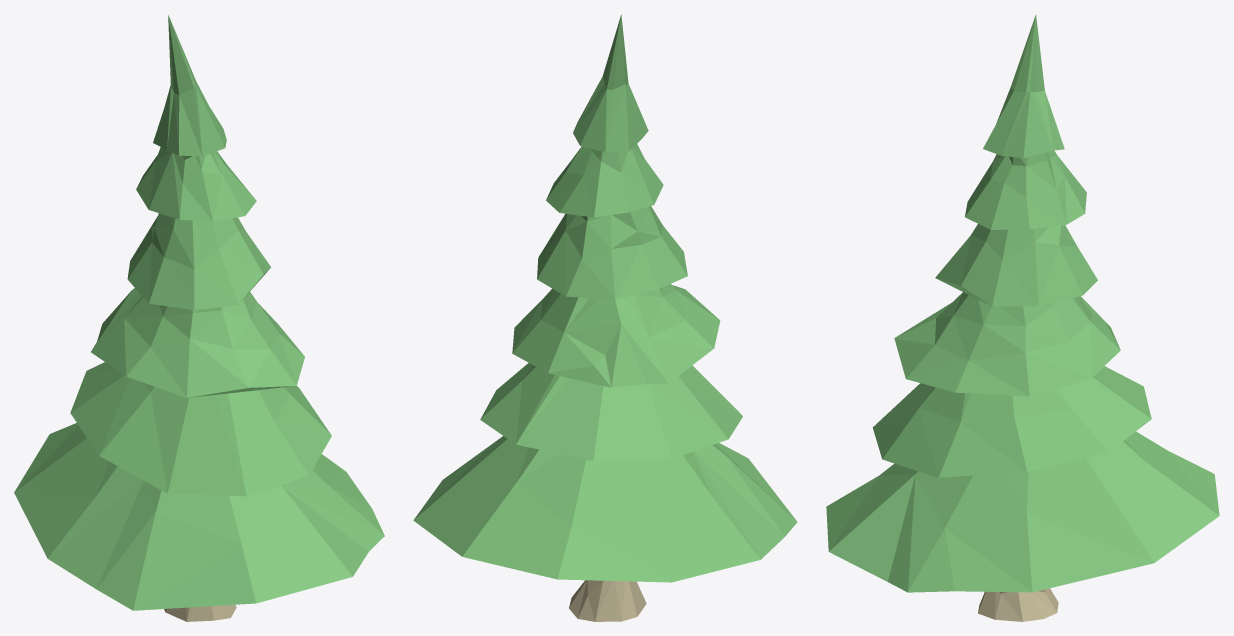
Rendered from BrokenTree.fbx.
3 renders of one model, left to right at view 1: azimuth 30°, elevation 25°; view 2: azimuth 150°, elevation 25°; view 3: azimuth 270°, elevation 25°, orthographic. The views are drawn at different scales.
Parts seen in each view (by area): view 1: LowPolyFirTree_01, LowPolyFirTree_01_cell.092, LowPolyFirTree_01_cell.009, LowPolyFirTree_01_cell.017, LowPolyFirTree_01_cell.004, LowPolyFirTree_01_cell.085, LowPolyFirTree_01_cell.075, LowPolyFirTree_01_cell.011, LowPolyFirTree_01_cell.130, LowPolyFirTree_01_cell.074, LowPolyFirTree_01_cell.059, LowPolyFirTree_01_cell.062 (+13 smaller); view 2: LowPolyFirTree_01, LowPolyFirTree_01_cell.100, LowPolyFirTree_01_cell.053, LowPolyFirTree_01_cell.064, LowPolyFirTree_01_cell.034, LowPolyFirTree_01_cell.065, LowPolyFirTree_01_cell.103, LowPolyFirTree_01_cell.074, LowPolyFirTree_01_cell.009; view 3: LowPolyFirTree_01, LowPolyFirTree_01_cell.017, LowPolyFirTree_01_cell.071, LowPolyFirTree_01_cell.011, LowPolyFirTree_01_cell.092, LowPolyFirTree_01_cell.039, LowPolyFirTree_01_cell.096, LowPolyFirTree_01_cell.026, LowPolyFirTree_01_cell.065, LowPolyFirTree_01_cell.088, LowPolyFirTree_01_cell.031, LowPolyFirTree_01_cell.110 (+4 smaller).
Part boxes in pixels (x1=…): LowPolyFirTree_01: x1=14, y1=38, x2=382, y2=621; LowPolyFirTree_01_cell.092: x1=153, y1=491, x2=291, y2=609; LowPolyFirTree_01_cell.009: x1=35, y1=474, x2=168, y2=599; LowPolyFirTree_01_cell.017: x1=203, y1=389, x2=314, y2=485; LowPolyFirTree_01_cell.004: x1=186, y1=353, x2=272, y2=397; LowPolyFirTree_01_cell.085: x1=165, y1=234, x2=230, y2=291; LowPolyFirTree_01_cell.075: x1=155, y1=298, x2=222, y2=368; LowPolyFirTree_01_cell.011: x1=222, y1=297, x2=273, y2=360; LowPolyFirTree_01_cell.130: x1=169, y1=465, x2=276, y2=496; LowPolyFirTree_01_cell.074: x1=132, y1=315, x2=195, y2=395; LowPolyFirTree_01_cell.059: x1=181, y1=153, x2=218, y2=196; LowPolyFirTree_01_cell.062: x1=166, y1=93, x2=215, y2=127; LowPolyFirTree_01: x1=413, y1=15, x2=797, y2=621; LowPolyFirTree_01_cell.100: x1=466, y1=457, x2=614, y2=569; LowPolyFirTree_01_cell.053: x1=420, y1=460, x2=502, y2=551; LowPolyFirTree_01_cell.064: x1=460, y1=548, x2=575, y2=571; LowPolyFirTree_01_cell.034: x1=613, y1=509, x2=715, y2=581; LowPolyFirTree_01_cell.065: x1=480, y1=366, x2=565, y2=437; LowPolyFirTree_01_cell.103: x1=536, y1=377, x2=607, y2=436; LowPolyFirTree_01_cell.074: x1=658, y1=296, x2=719, y2=333; LowPolyFirTree_01_cell.009: x1=685, y1=445, x2=790, y2=544; LowPolyFirTree_01: x1=827, y1=15, x2=1219, y2=621; LowPolyFirTree_01_cell.017: x1=877, y1=383, x2=949, y2=463; LowPolyFirTree_01_cell.071: x1=936, y1=337, x2=1028, y2=396; LowPolyFirTree_01_cell.011: x1=923, y1=294, x2=973, y2=350; LowPolyFirTree_01_cell.092: x1=826, y1=463, x2=911, y2=516; LowPolyFirTree_01_cell.039: x1=887, y1=541, x2=994, y2=592; LowPolyFirTree_01_cell.096: x1=981, y1=161, x2=1021, y2=218; LowPolyFirTree_01_cell.026: x1=926, y1=391, x2=1004, y2=449; LowPolyFirTree_01_cell.065: x1=1043, y1=382, x2=1151, y2=454; LowPolyFirTree_01_cell.088: x1=993, y1=533, x2=1036, y2=592; LowPolyFirTree_01_cell.031: x1=896, y1=445, x2=943, y2=477; LowPolyFirTree_01_cell.110: x1=962, y1=298, x2=1022, y2=354.
Size of the model in its own units: 514 by 958 by 581.
